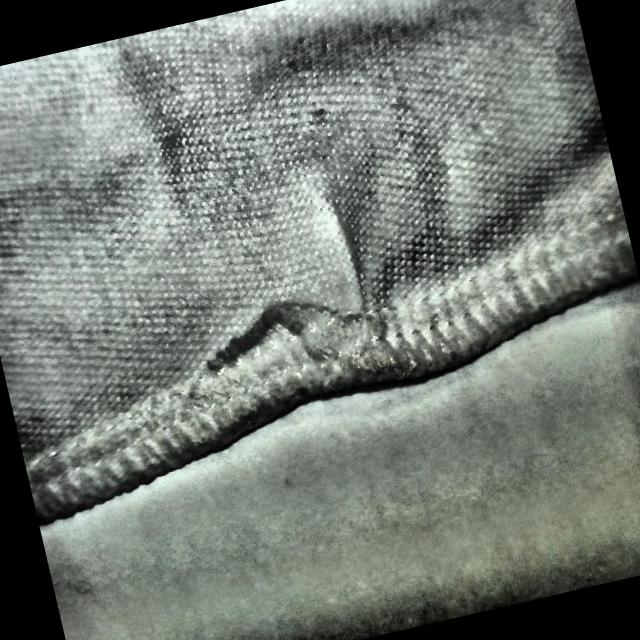gray stitch: (177, 192, 424, 425)
